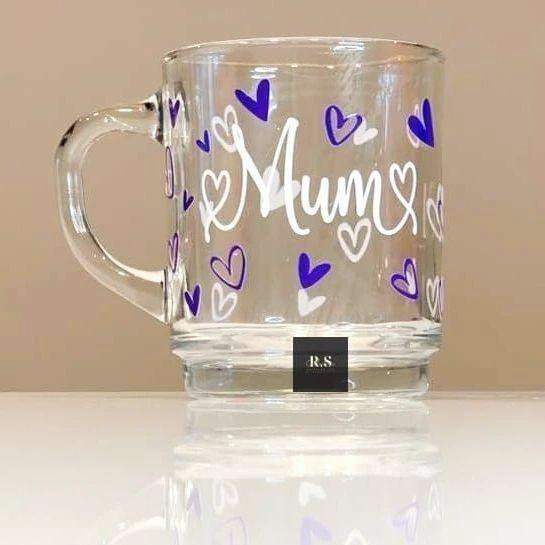glass-mug: (49, 32, 459, 409)
